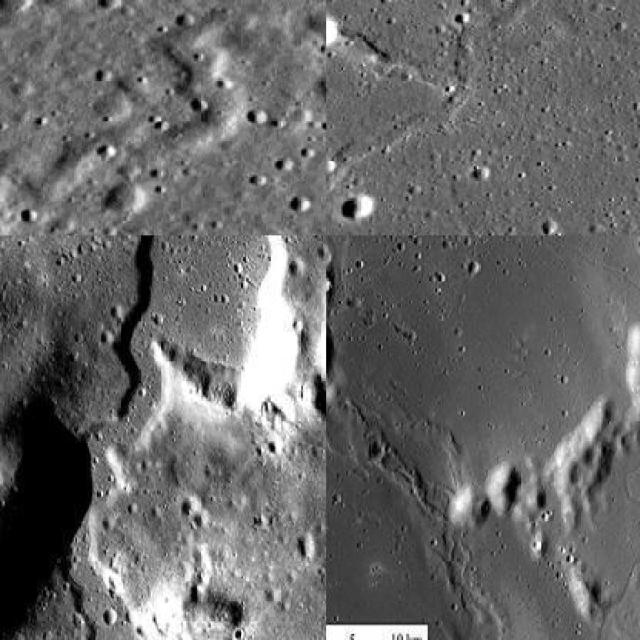rille: (45, 236, 289, 638), (474, 236, 638, 638), (326, 0, 559, 234), (0, 28, 251, 234)
